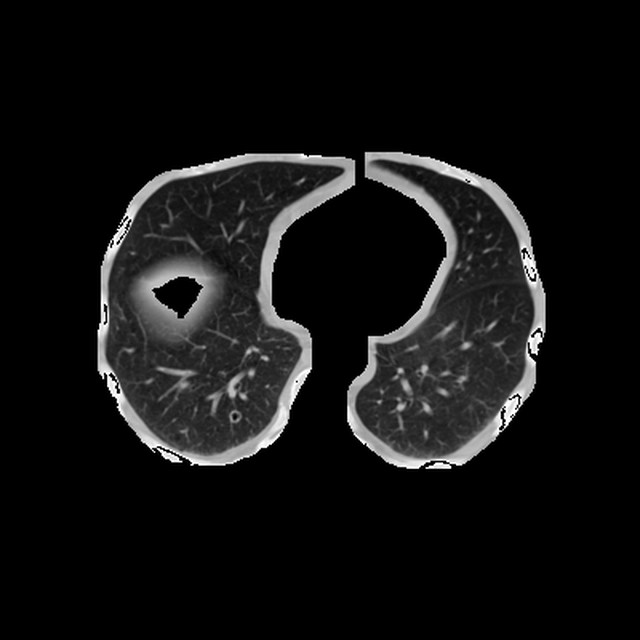PN: (227, 410, 240, 422)
